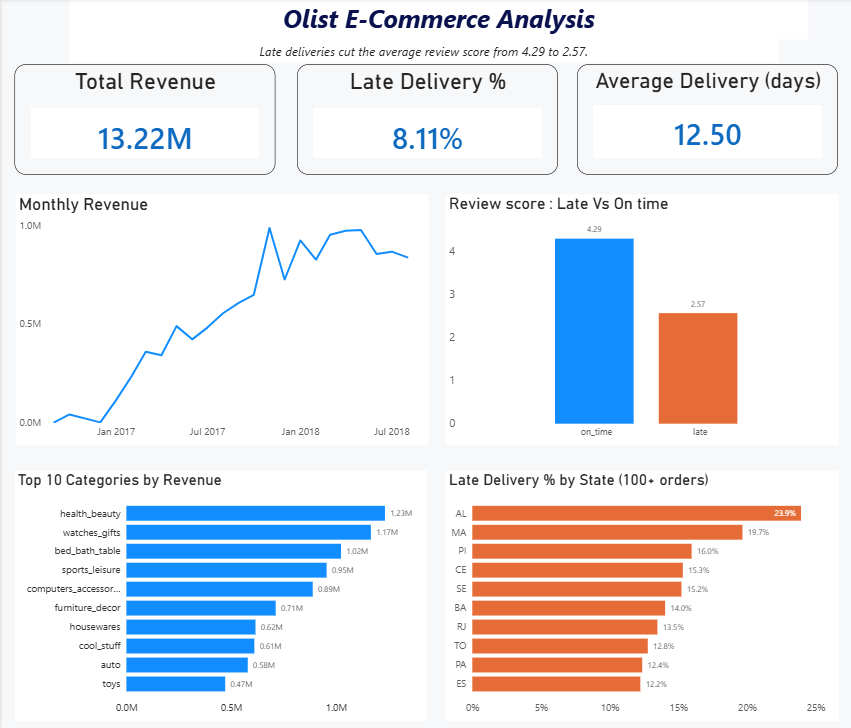

This screenshot's page, from the dashboard's own definition file:
{"tool":"powerbi","page":{"name":"Page 1","canvas":[1280,1100],"ordinal":0},"visuals":[{"type":"cardVisual","title":"Total Revenue","fields":{"Data":["Sum(public stg_sales.price)"]},"box":[19,98.8,391.5,165.3],"z":0},{"type":"cardVisual","title":"Late Delivery %","fields":{"Data":["Avg(public stg_delivery.is_late)"]},"box":[442.8,98.8,391.5,165.3],"z":1000},{"type":"cardVisual","title":"Average Delivery (days)","fields":{"Data":["Avg(public stg_delivery.delivery_days)"]},"box":[862.8,98.8,391.5,165.3],"z":2000},{"type":"lineChart","title":"Monthly Revenue","fields":{"Category":["public stg_sales.order_purchase_timestamp.Variation.Date Hierarchy.Year","public stg_sales.order_purchase_timestamp.Variation.Date Hierarchy.Month"],"Y":["Sum(public stg_sales.price)"]},"box":[20.9,294.6,619.6,376.3],"z":3000},{"type":"clusteredColumnChart","title":"Review score : Late Vs On time","fields":{"Category":["public stg_delivery.delivery_status"],"Y":["Avg(public stg_delivery.review_score)"]},"box":[665.2,294.6,589.2,376.3],"z":4000},{"type":"clusteredBarChart","title":"Top 10 Categories by Revenue","fields":{"Y":["Sum(public stg_sales.price)"],"Category":["public stg_sales.category"]},"box":[19,708.9,619.6,376.3],"z":5000},{"type":"clusteredBarChart","title":"\tLate Delivery % by State (100+ orders)","fields":{"Category":["public stg_delivery.customer_state"],"Y":["Avg(public stg_delivery.is_late)"]},"box":[665.2,708.9,589.2,376.3],"z":6000},{"type":"textbox","box":[100.7,0,1108,62.7],"z":7000},{"type":"textbox","box":[100.7,62.7,1062.4,36.1],"z":8000}]}

Visuals, with their boxes in screenshot pixels (x1, y1, x2, y2), scaled from the page's 1280x1100 canvas onto the 851x728 screenshot:
"Total Revenue" cardVisual: (left=13, top=65, right=273, bottom=175)
"Late Delivery %" cardVisual: (left=294, top=65, right=555, bottom=175)
"Average Delivery (days)" cardVisual: (left=574, top=65, right=834, bottom=175)
"Monthly Revenue" lineChart: (left=14, top=195, right=426, bottom=444)
"Review score : Late Vs On time" clusteredColumnChart: (left=442, top=195, right=834, bottom=444)
"Top 10 Categories by Revenue" clusteredBarChart: (left=13, top=469, right=425, bottom=718)
"	Late Delivery % by State (100+ orders)" clusteredBarChart: (left=442, top=469, right=834, bottom=718)
textbox: (left=67, top=0, right=804, bottom=41)
textbox: (left=67, top=41, right=773, bottom=65)
